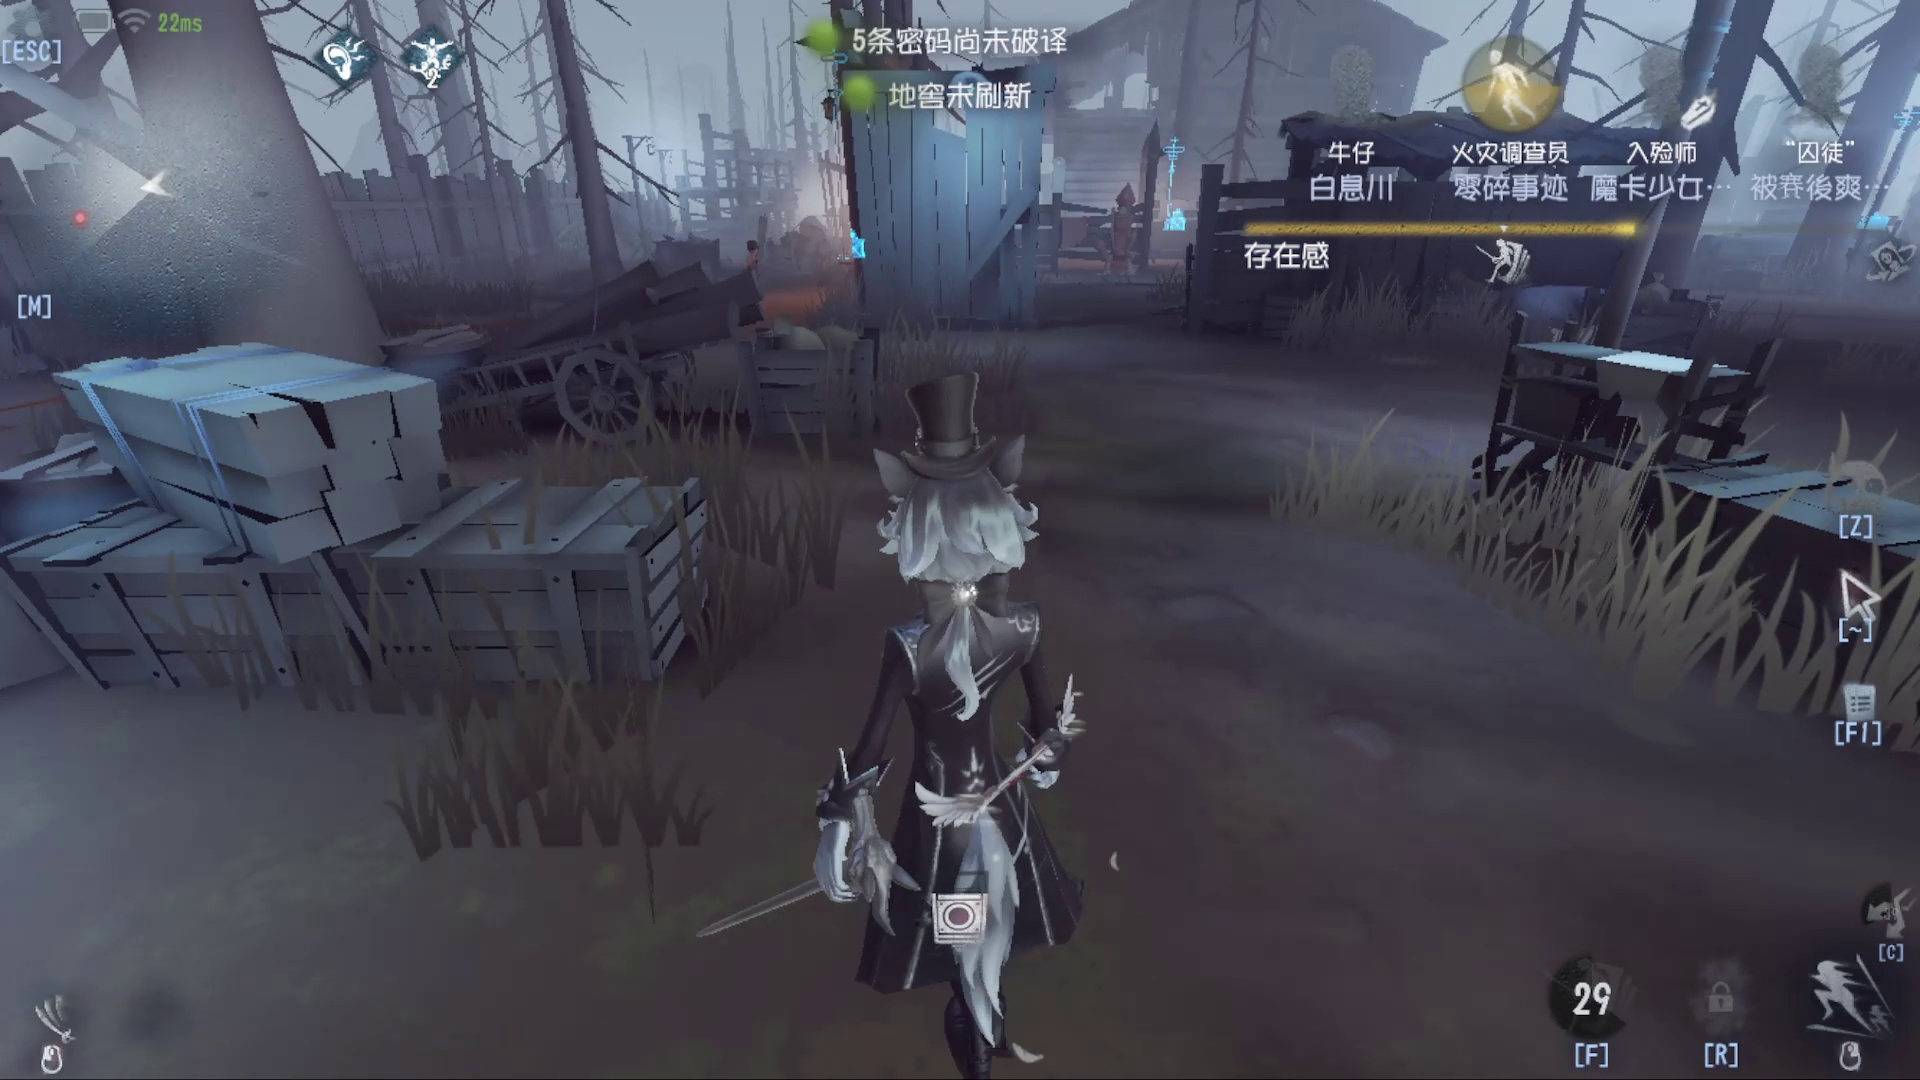密码机: (1153, 131, 1218, 243), (822, 164, 884, 281)
狂欢之椅: (1091, 167, 1151, 289)
